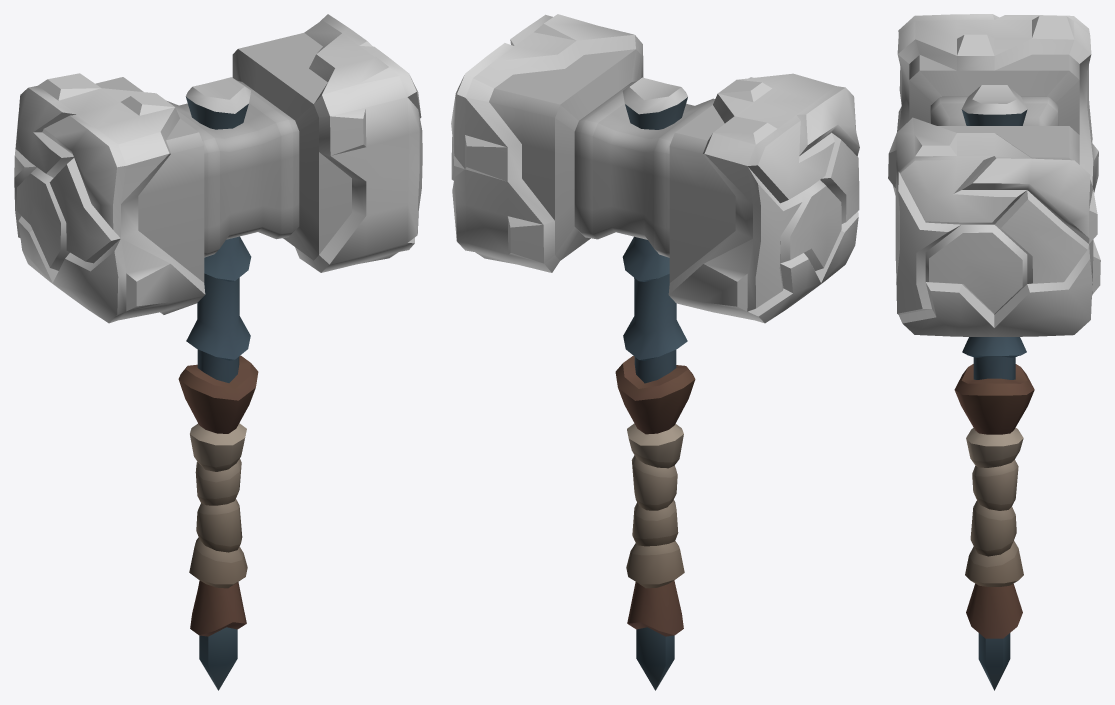
Rendered from warhammer.glb.
The picture shows the model from 3 angles, left to right: view 1: azimuth 30°, elevation 25°; view 2: azimuth 150°, elevation 25°; view 3: azimuth 270°, elevation 25°; orthographic projection.
Visible parts, largest first — view 1: hammer_D; view 2: hammer_D; view 3: hammer_D.
Part boxes in pixels (x1=…): hammer_D: x1=14, y1=14, x2=422, y2=690; hammer_D: x1=451, y1=14, x2=859, y2=690; hammer_D: x1=888, y1=14, x2=1100, y2=690.
Bounding box in the file's own units: 1.08 × 1.86 × 0.5866.
